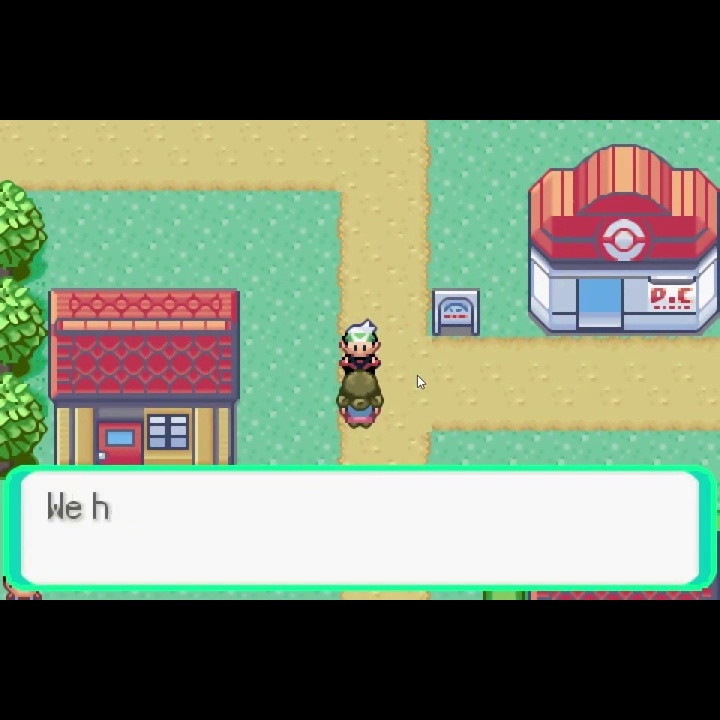house: (44, 284, 245, 466)
npc: (334, 373, 385, 431), (336, 317, 380, 373)
pokecen: (523, 138, 720, 336)
wall: (1, 179, 48, 276), (1, 370, 48, 465), (1, 276, 48, 370)
